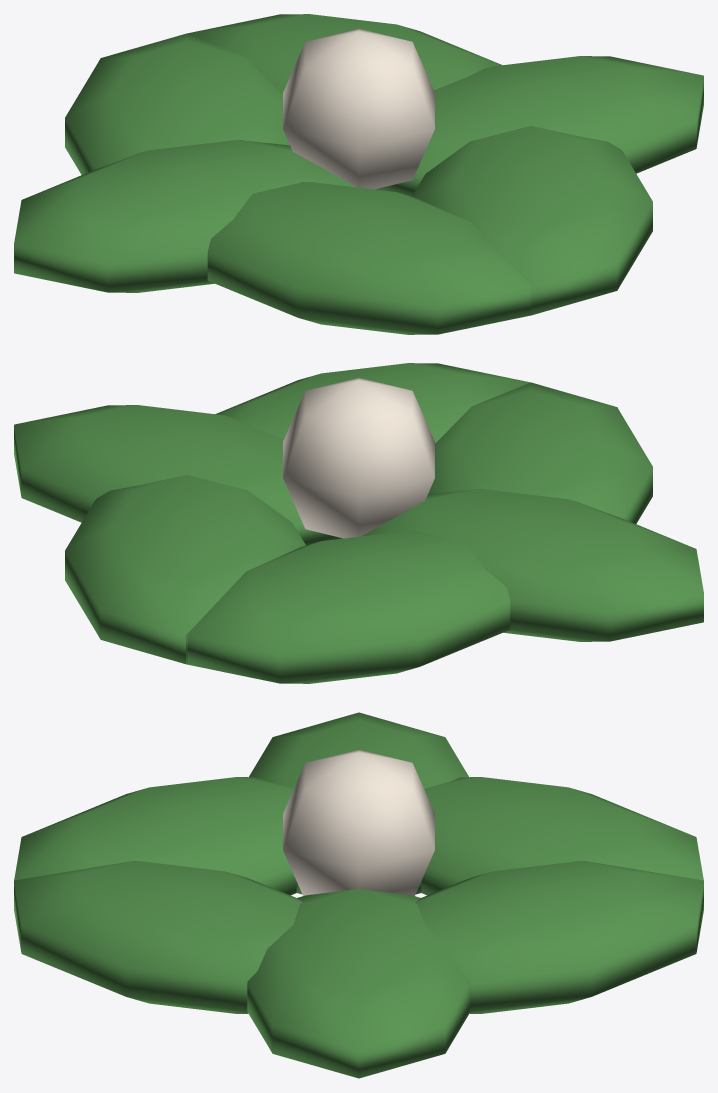
The model's file is clover.glb.
3 renders of one model, top to bottom at view 1: azimuth 30°, elevation 25°; view 2: azimuth 150°, elevation 25°; view 3: azimuth 270°, elevation 25°, orthographic.
Visible parts, largest first — view 1: Leaf0, Flower; view 2: Leaf0, Flower; view 3: Leaf0, Flower.
Part boxes in pixels (left/top/right/bottom): Leaf0: left=14, top=14, right=703, bottom=334; Flower: left=283, top=29, right=434, bottom=189; Leaf0: left=14, top=363, right=703, bottom=683; Flower: left=283, top=378, right=434, bottom=538; Leaf0: left=14, top=712, right=703, bottom=1078; Flower: left=283, top=750, right=434, bottom=895.
Size of the model in its own units: 0.6824 by 0.18 by 0.591.
